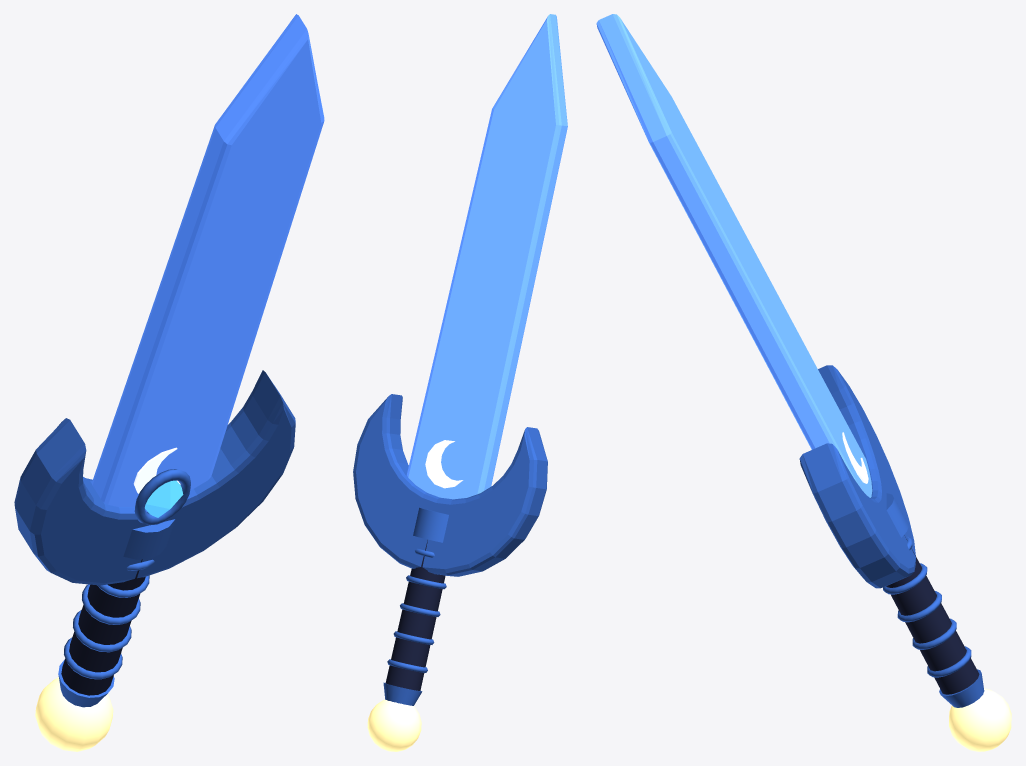
The model's file is hand_moon1.glb.
3 renders of one model, left to right at view 1: azimuth 30°, elevation 25°; view 2: azimuth 150°, elevation 25°; view 3: azimuth 270°, elevation 25°, orthographic. The views are drawn at different scales.
Size of the model in its own units: 1.4 by 4.66 by 2.39.
